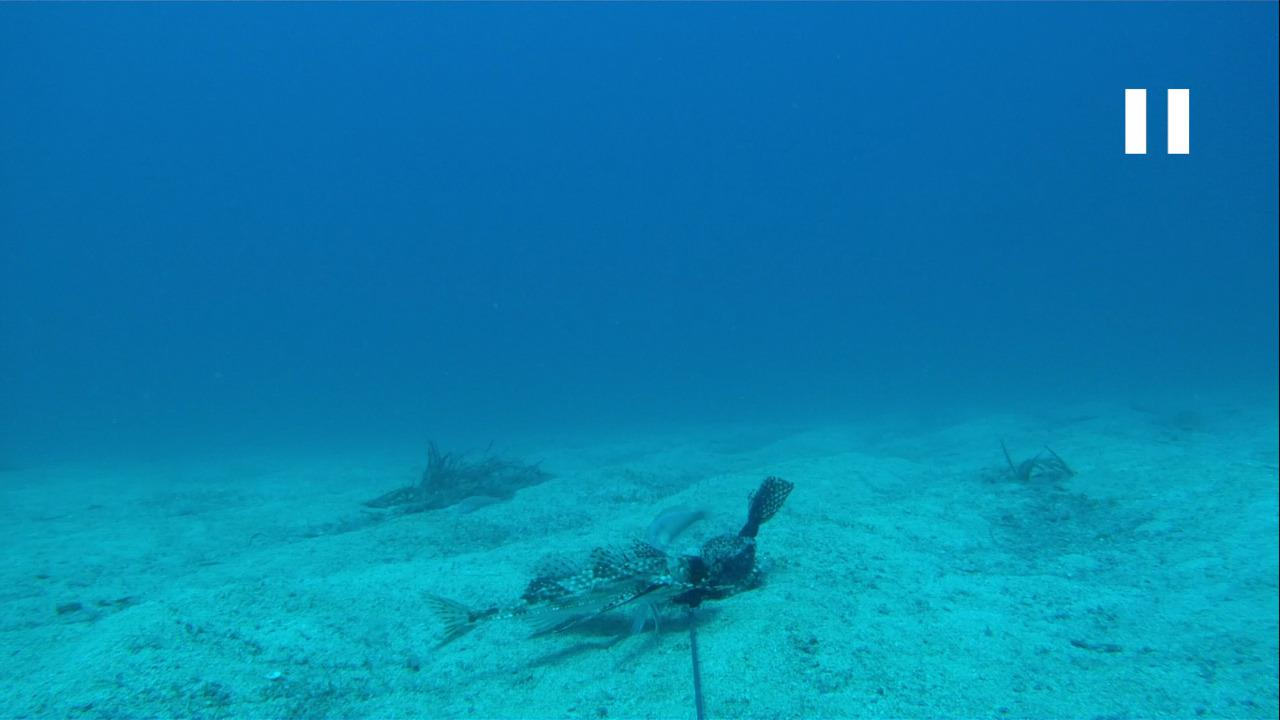dactylopterus: (411, 536, 716, 660)
raor: (647, 499, 711, 550)
